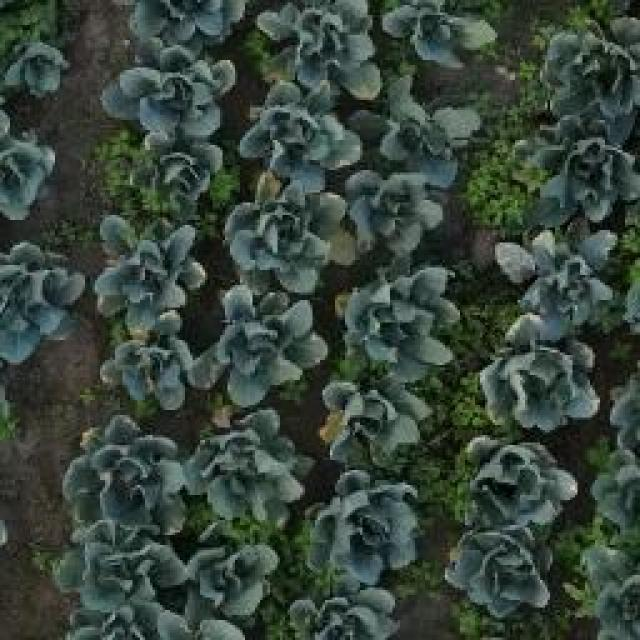cabbage: (192, 284, 329, 408), (181, 406, 313, 532), (59, 413, 188, 538), (473, 310, 601, 434), (89, 212, 210, 332), (219, 171, 343, 284), (51, 516, 187, 616), (310, 466, 428, 577), (341, 264, 457, 376), (458, 428, 580, 532), (520, 117, 640, 220), (104, 39, 236, 132), (497, 227, 625, 322), (237, 77, 361, 173), (249, 0, 383, 85), (89, 325, 199, 419), (346, 162, 449, 260), (535, 29, 640, 125), (126, 120, 229, 217), (362, 87, 482, 170), (0, 244, 78, 362), (446, 532, 553, 613), (185, 537, 282, 619), (386, 0, 495, 68), (287, 580, 401, 640), (332, 394, 409, 457), (4, 35, 72, 97)
